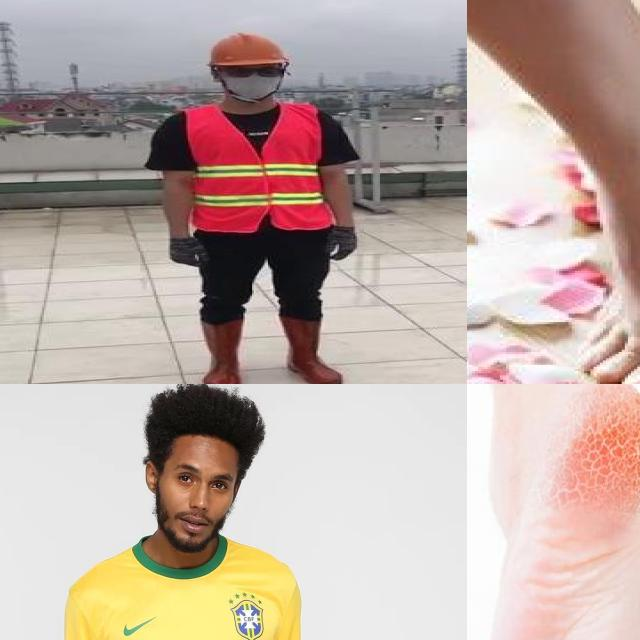Barefoots: (476, 384, 640, 640), (564, 92, 640, 384)
No_Ear-Protection: (143, 453, 163, 500)
No_Glasses: (169, 459, 233, 504)
boots: (277, 314, 348, 384), (200, 317, 244, 384)
face_mask: (215, 62, 284, 100)
glasses: (217, 63, 290, 80)
hand_glove: (167, 236, 211, 271), (332, 228, 357, 261)
head_helmet: (201, 32, 291, 66)
person: (143, 26, 371, 384)
vest: (181, 105, 335, 232)
